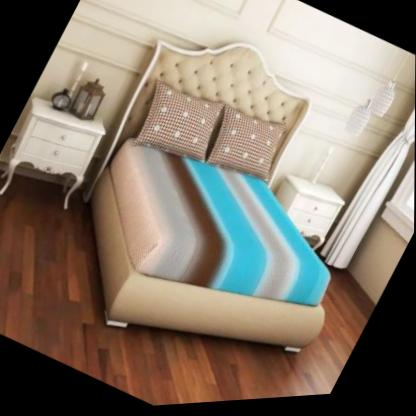Bed: (42, 0, 416, 395)
Curtains: (321, 116, 415, 274)
Nightstand: (0, 87, 113, 222), (257, 171, 350, 271)
Wooden floor: (0, 178, 376, 408)
